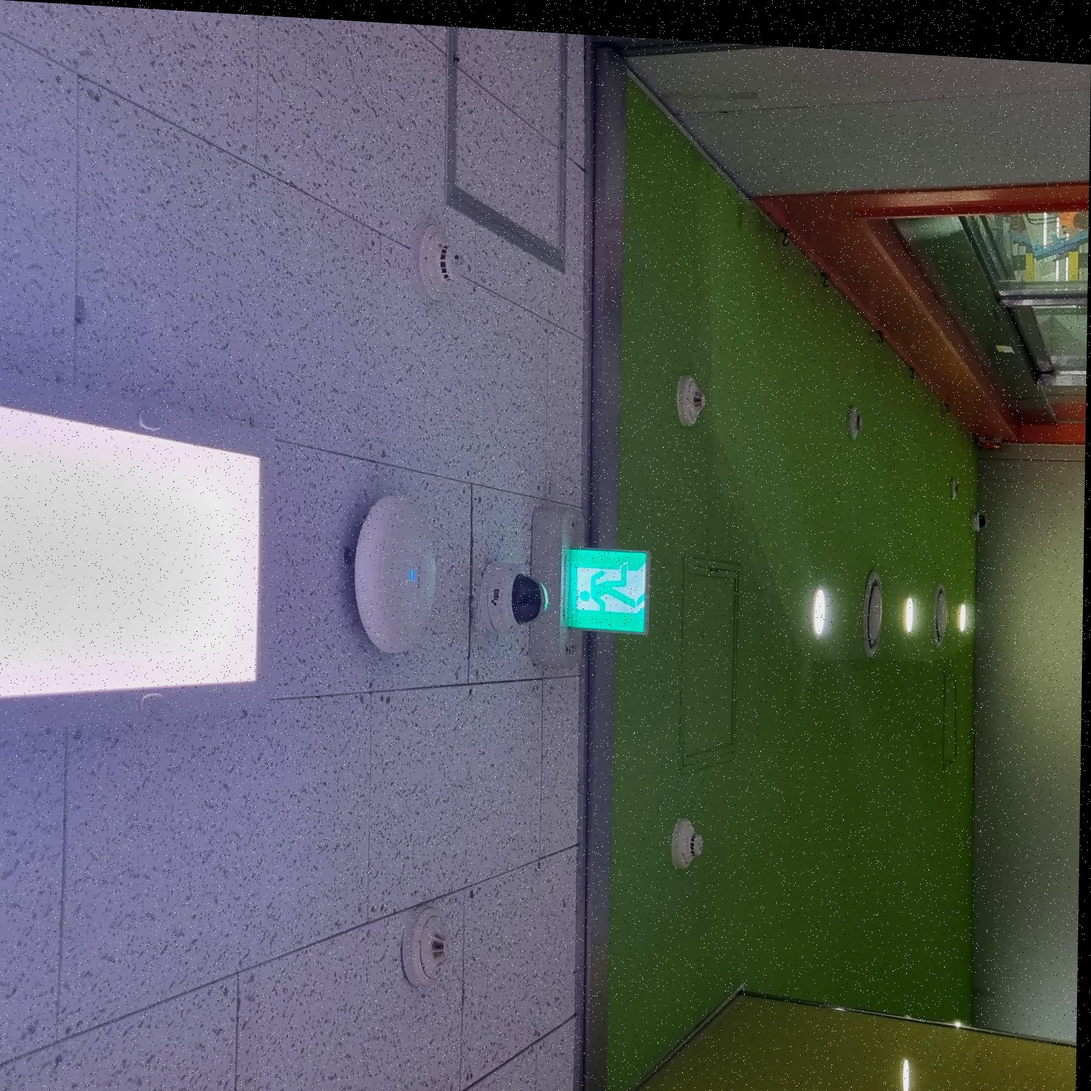emergency_exit: (560, 546, 650, 636)
